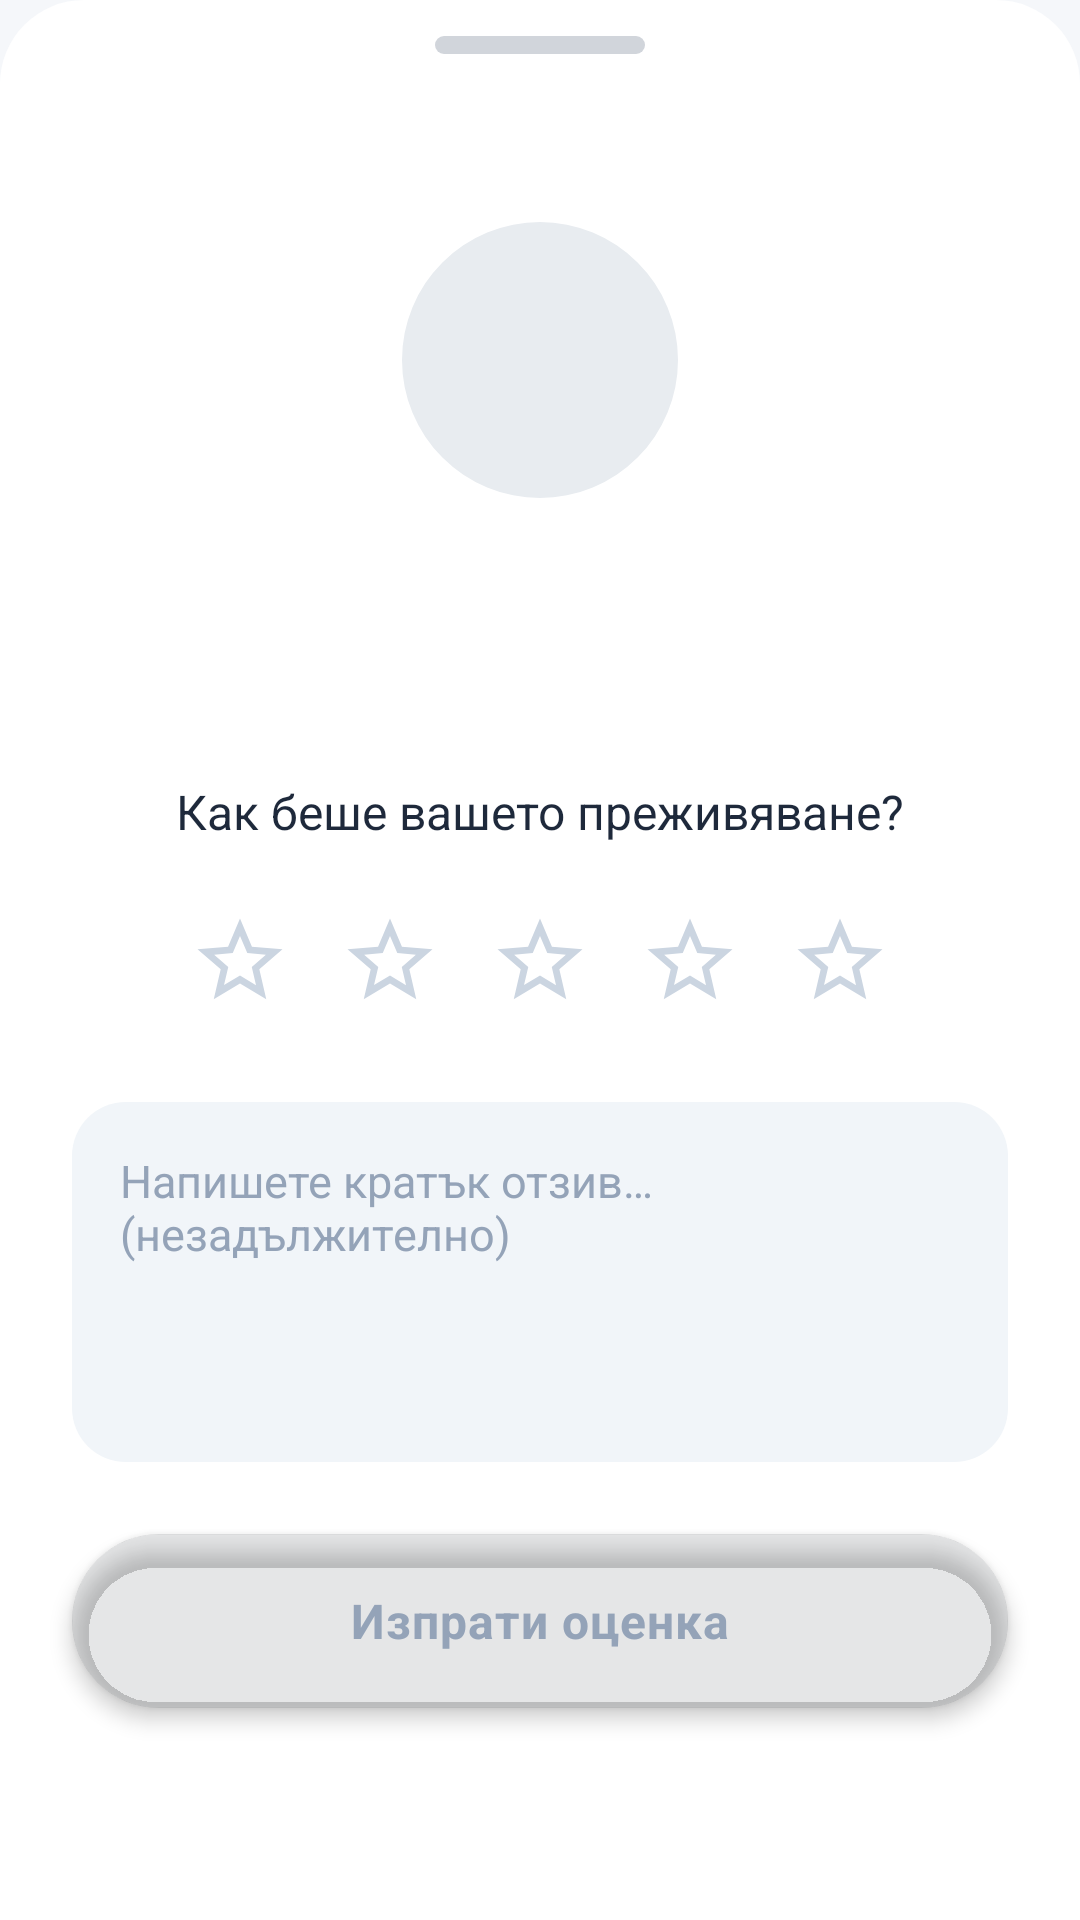

Icons on this 1080×1920 Android screen, each with the point to tap as point (x, y):
Звезда 1: point (240, 959)
Звезда 2: point (390, 959)
Звезда 3: point (540, 959)
Звезда 4: point (690, 959)
Звезда 5: point (840, 959)
